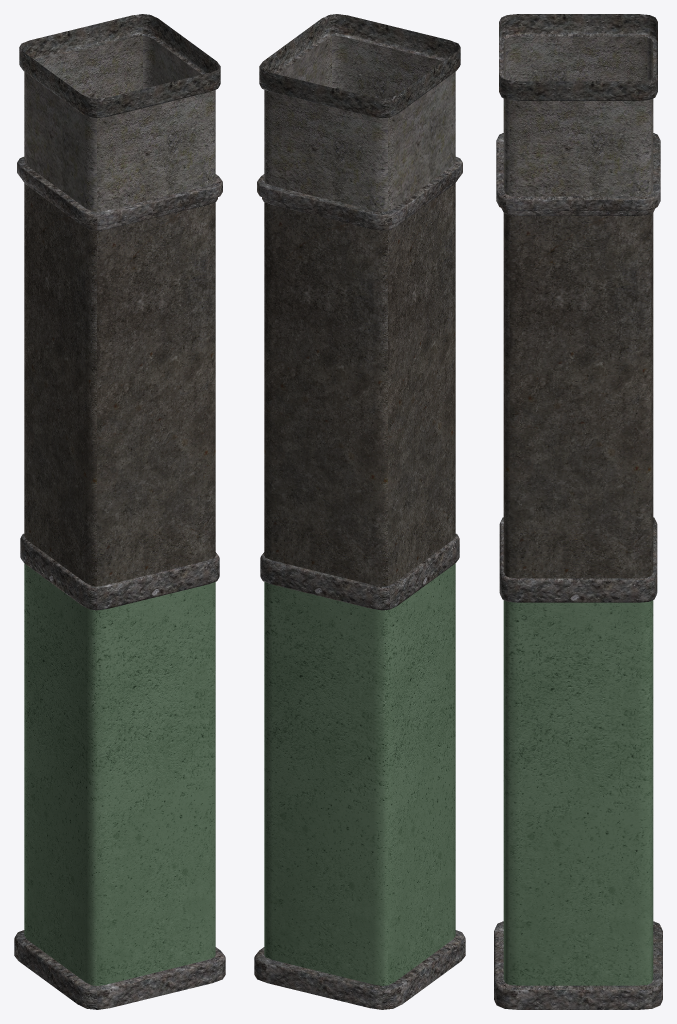
The model's file is Column.FBX.
3 views of the same model, side by side, from view 1: azimuth 30°, elevation 25°; view 2: azimuth 150°, elevation 25°; view 3: azimuth 270°, elevation 25° (orthographic).
Visible parts, largest first — view 1: Column; view 2: Column; view 3: Column.
Part boxes in pixels (box(x1,y1,x2,y2)): Column: box(14, 14, 225, 1009); Column: box(254, 14, 465, 1009); Column: box(494, 14, 662, 1009).
Size of the model in its own units: 13.78 by 83.38 by 13.78.
